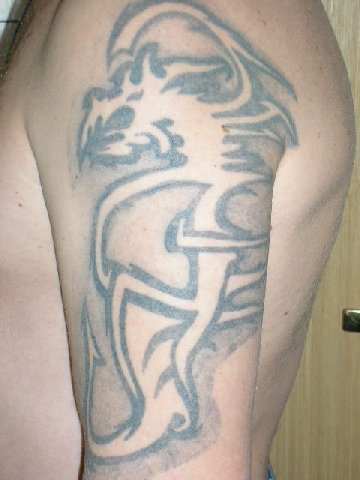tatu6_drakon: (49, 4, 325, 465)
